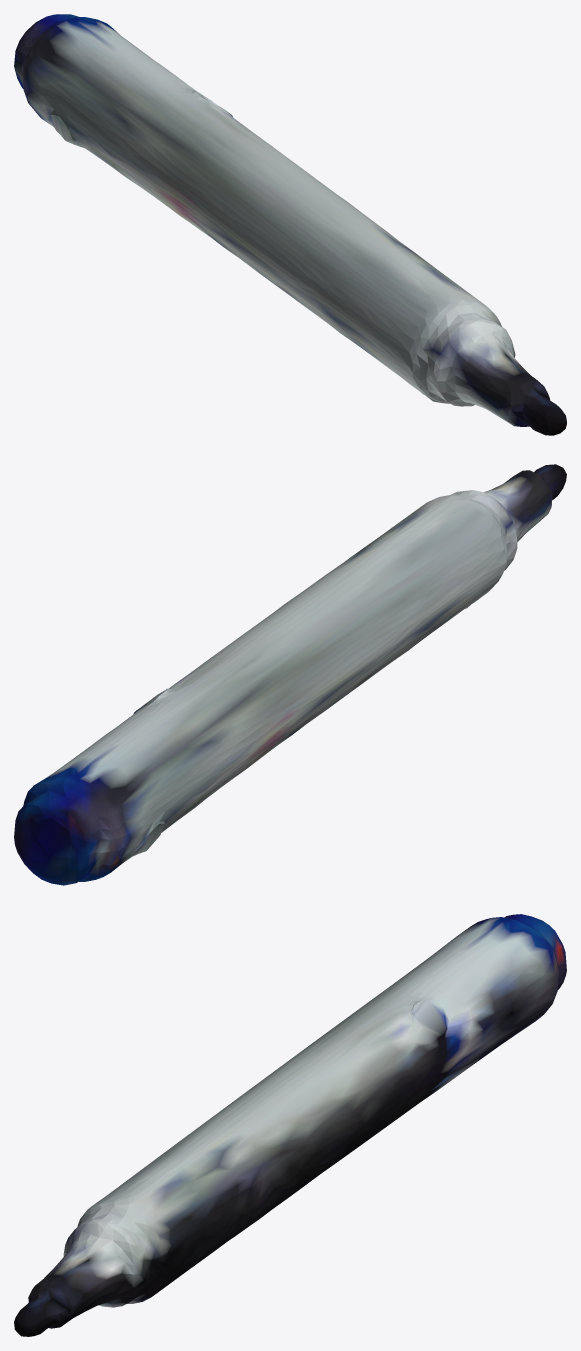
The model's file is scan.obj.
3 views of the same model, one above another, from view 1: azimuth 30°, elevation 25°; view 2: azimuth 150°, elevation 25°; view 3: azimuth 330°, elevation 25° (orthographic).
Visible parts, largest first — view 1: scan.ply; view 2: scan.ply; view 3: scan.ply.
Part boxes in pixels (<box>): scan.ply: <box>14,14,566,435</box>; scan.ply: <box>14,464,566,885</box>; scan.ply: <box>14,914,566,1336</box>.
Size of the model in its own units: 0.0158 by 0.0157 by 0.1403.
